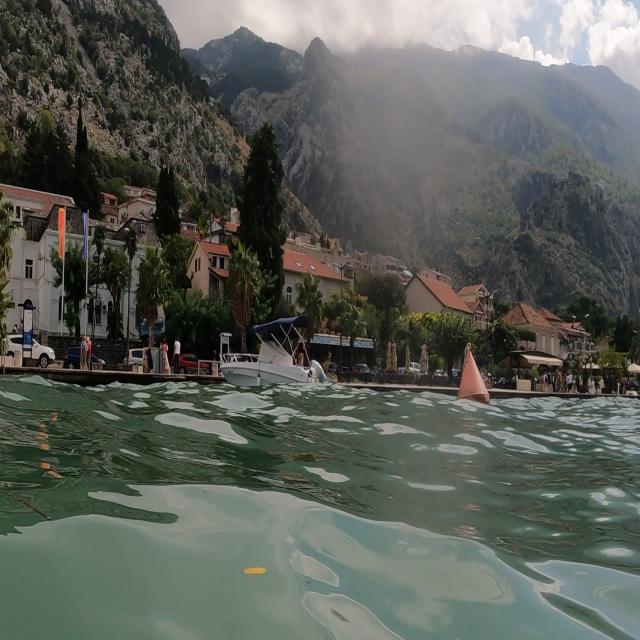boat: (218, 311, 329, 391)
buoy: (454, 339, 492, 409)
